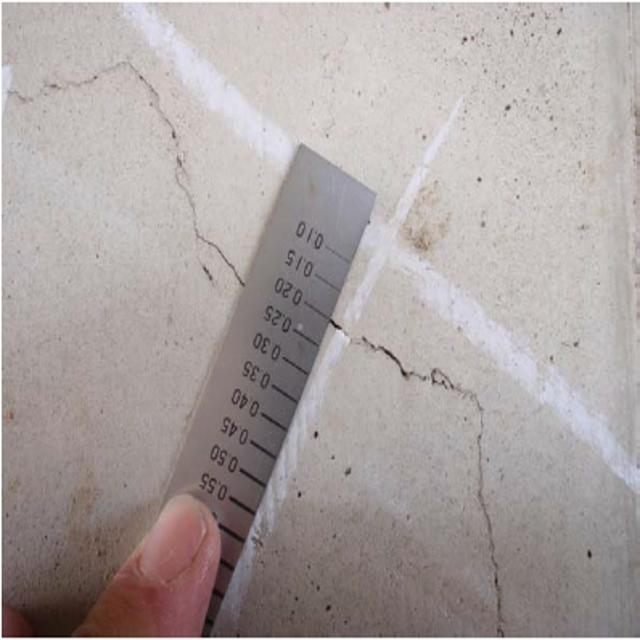crack: (329, 304, 517, 637), (8, 52, 243, 308)
